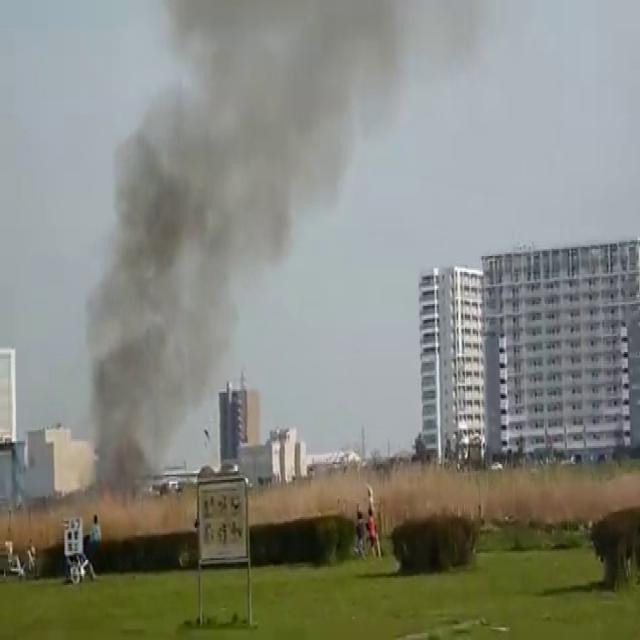Smoke: (69, 1, 393, 504)
